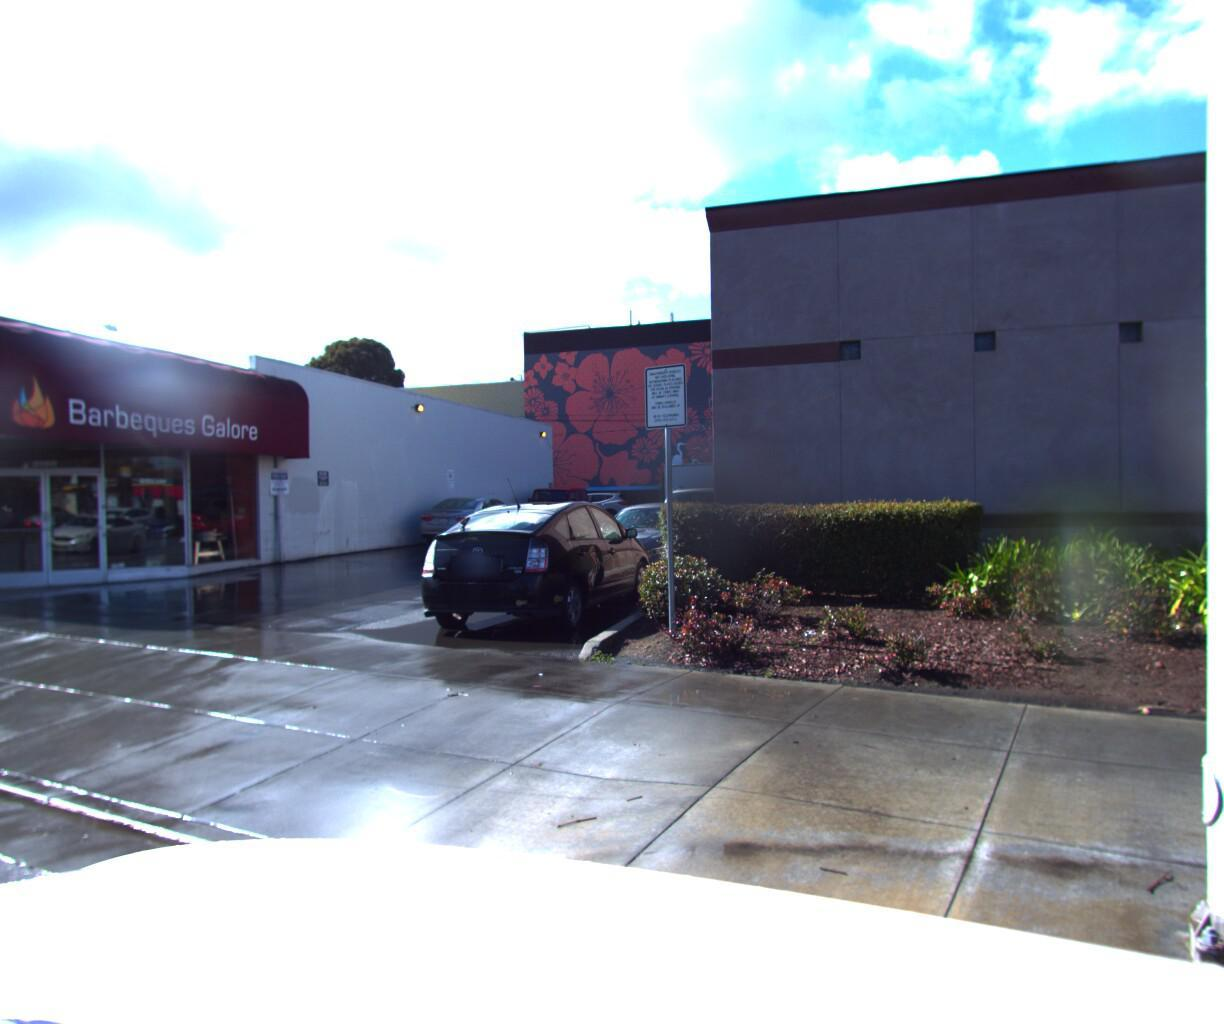car: (403, 498, 659, 651), (558, 496, 726, 599)
